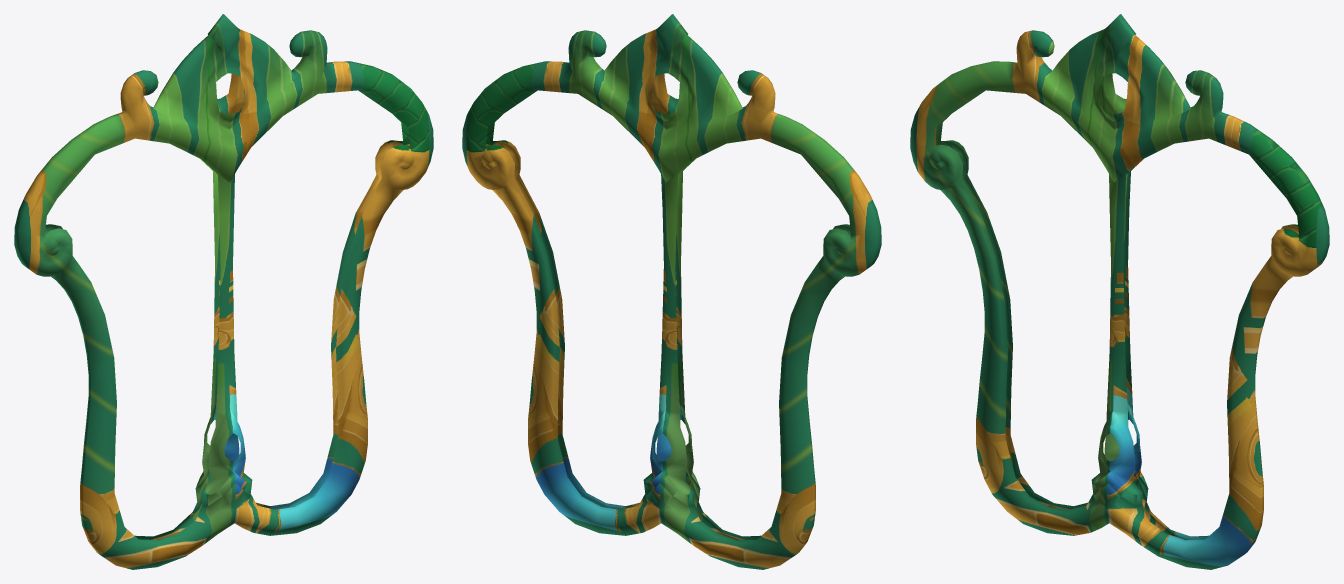
The picture shows the model from 3 angles, left to right: view 1: azimuth 30°, elevation 25°; view 2: azimuth 150°, elevation 25°; view 3: azimuth 330°, elevation 25°; orthographic projection.
Parts seen in each view (by area): view 1: fish390; view 2: fish390; view 3: fish390.
Part boxes in pixels (x1=…): fish390: x1=14, y1=14, x2=433, y2=569; fish390: x1=462, y1=14, x2=881, y2=569; fish390: x1=910, y1=14, x2=1329, y2=569.
Size of the model in its own units: 82.35 by 101 by 8.61.
